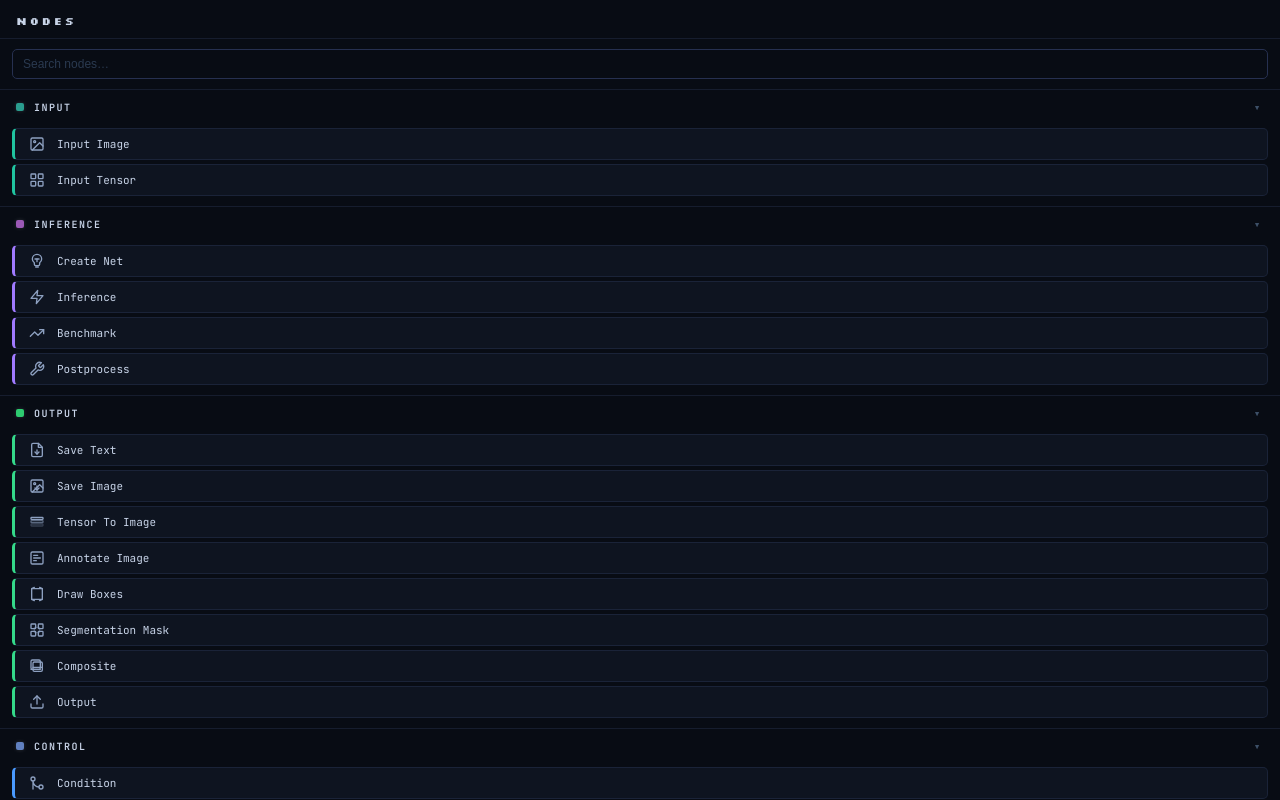
Scenario: NodePalette search › shows the empty-state message when no nodes match
The image size is (1280, 800).
// Highly unlikely any node label contains this glyph sequence.
Type "zzzqqq__nope" into the field labelled "Search nodes" at (640, 64), box [12,49,1268,79]
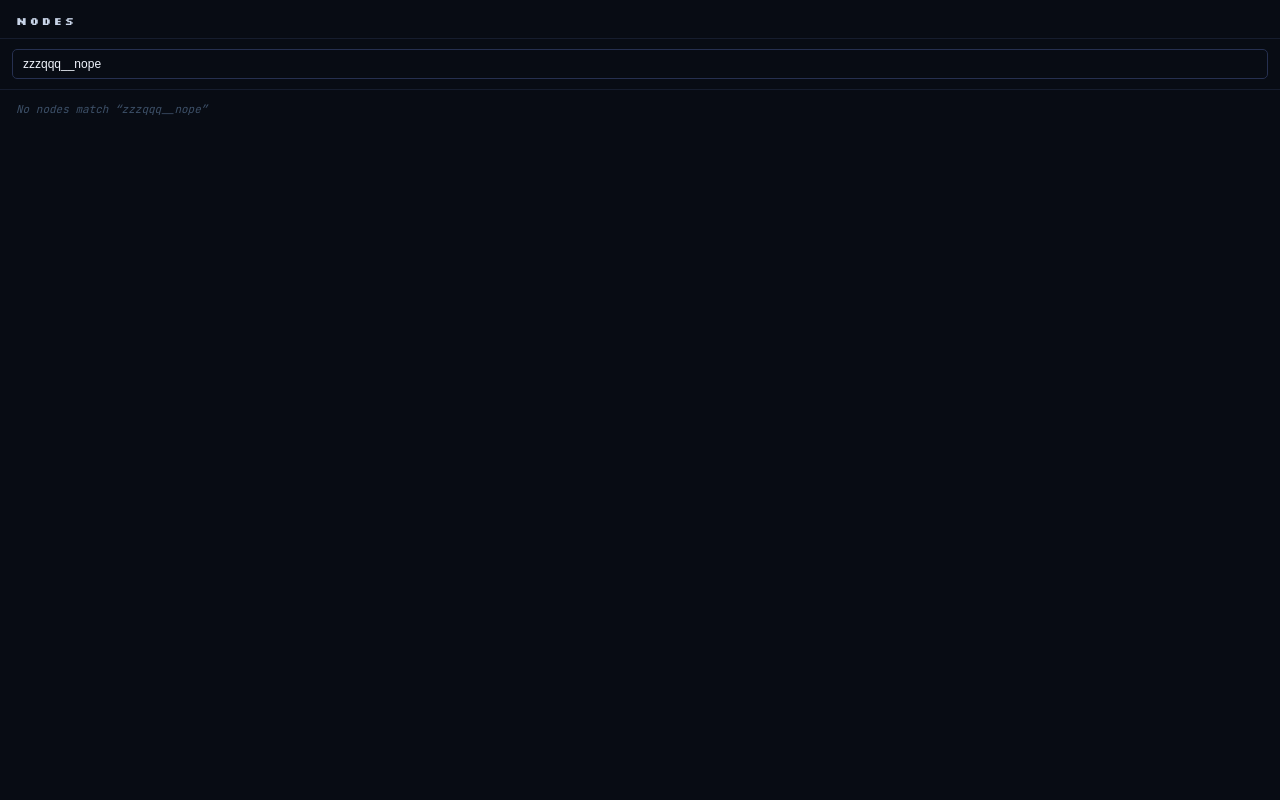
Result: the text "No nodes match “zzzqqq__nope”" is shown at [16,102,207,116]
